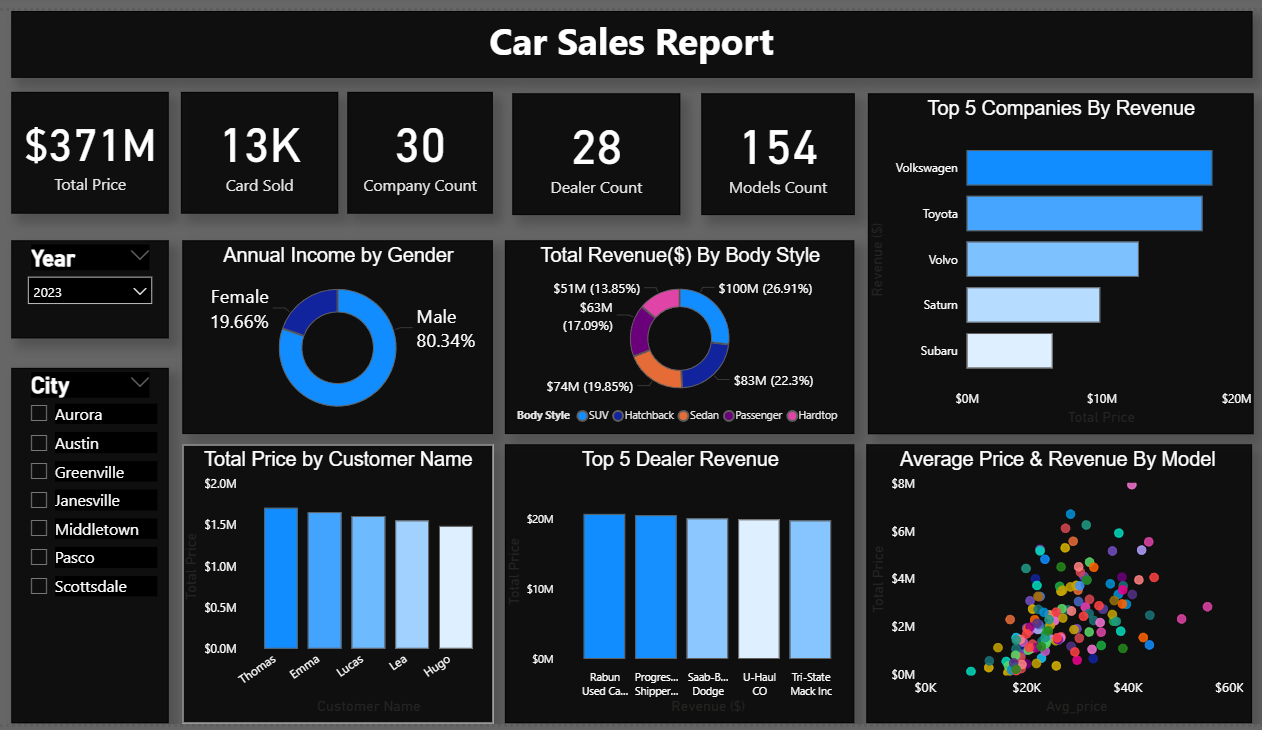

This screenshot's page, from the dashboard's own definition file:
{"tool":"powerbi","page":{"name":"Page 1","canvas":[1280,720],"ordinal":0},"visuals":[{"type":"textbox","box":[13.4,0,1253.1,67.1],"z":0},{"type":"card","fields":{"Values":["Cars Data.Card Sold"]},"box":[184.7,81.8,159,122.7],"z":1000},{"type":"card","fields":{"Values":["Cars Data.Total Price"]},"box":[13.6,81.8,159,122.7],"z":2000},{"type":"card","fields":{"Values":["Cars Data.Company Count"]},"box":[352.8,81.8,146.9,122.7],"z":3000},{"type":"card","fields":{"Values":["Cars Data.Dealer Count"]},"box":[519.4,83.3,169.6,122.7],"z":4000},{"type":"card","fields":{"Values":["Cars Data.Models Count"]},"box":[710.2,83.3,154.4,122.7],"z":5000},{"type":"slicer","fields":{"Values":["Cars Data.Year"]},"box":[13.6,231.7,159,98.4],"z":6000},{"type":"slicer","fields":{"Values":["Cars Data.City"]},"box":[13.6,360.4,159,358.9],"z":7000},{"type":"donutChart","title":"Annual Income by Gender","fields":{"Category":["Cars Data.Gender"],"Y":["Cars Data.Annual Income"]},"box":[186.2,231.7,313.4,195.3],"z":8000},{"type":"columnChart","title":"Total Price by Customer Name","fields":{"Category":["Cars Data.Customer Name"],"Y":["Cars Data.Total Price"]},"box":[186.2,437.6,313.4,281.6],"z":9000},{"type":"columnChart","title":"Top 5 Dealer Revenue","fields":{"Category":["Cars Data.Dealer_Name"],"Y":["Cars Data.Total Price"]},"box":[511.8,437.6,352.8,281],"z":10000},{"type":"scatterChart","title":"Average Price & Revenue By Model","fields":{"X":["Cars Data.Avg_price"],"Y":["Cars Data.Total Price"],"Category":["Cars Data.Model"],"Series":["Cars Data.Company"]},"box":[876.7,437.6,389.2,281.6],"z":11000},{"type":"donutChart","title":"Total Revenue($) By Body Style","fields":{"Category":["Cars Data.Body Style"],"Y":["Cars Data.Total Price"]},"box":[511.8,231.7,352.8,195.3],"z":12000},{"type":"clusteredBarChart","title":"Top 5 Companies By Revenue","fields":{"Category":["Cars Data.Company"],"Y":["Cars Data.Total Price"]},"box":[878.2,83.3,389.2,343.7],"z":13000}]}

Visuals, with their boxes on the page's 1280x720 design canvas (x1, y1, x2, y2). These are canvas units, not pixel positions in the 1262x730 screenshot, which may show the page scaled, cropped or inside an application window:
textbox: 13 0 1266 67
card - Cars Data.Card Sold: 185 82 344 204
card - Cars Data.Total Price: 14 82 173 204
card - Cars Data.Company Count: 353 82 500 204
card - Cars Data.Dealer Count: 519 83 689 206
card - Cars Data.Models Count: 710 83 865 206
slicer - Cars Data.Year: 14 232 173 330
slicer - Cars Data.City: 14 360 173 719
"Annual Income by Gender" donutChart: 186 232 500 427
"Total Price by Customer Name" columnChart: 186 438 500 719
"Top 5 Dealer Revenue" columnChart: 512 438 865 719
"Average Price & Revenue By Model" scatterChart: 877 438 1266 719
"Total Revenue($) By Body Style" donutChart: 512 232 865 427
"Top 5 Companies By Revenue" clusteredBarChart: 878 83 1267 427
